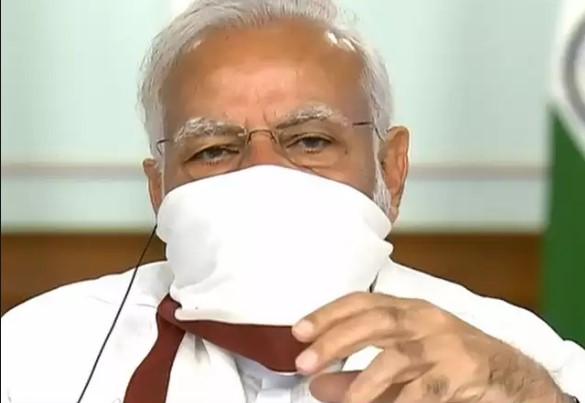face_with_mask: (154, 16, 388, 334)
